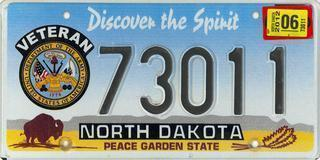placa de veiculo: (8, 2, 316, 153)
